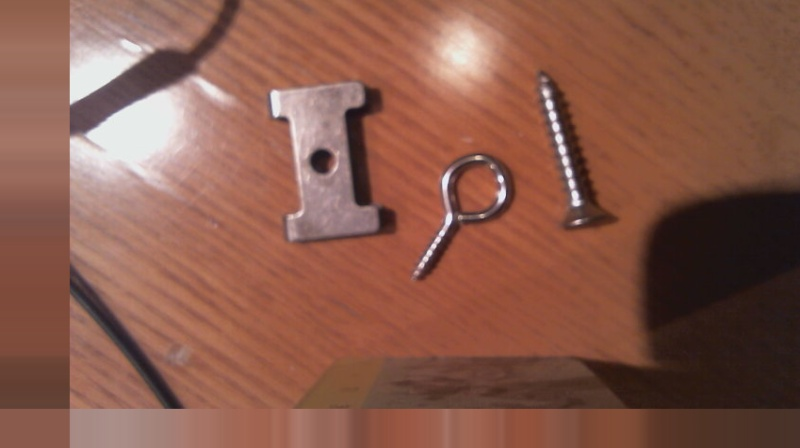O001: (404, 149, 518, 287)
O002: (266, 79, 385, 248)
S001: (529, 68, 611, 235)
